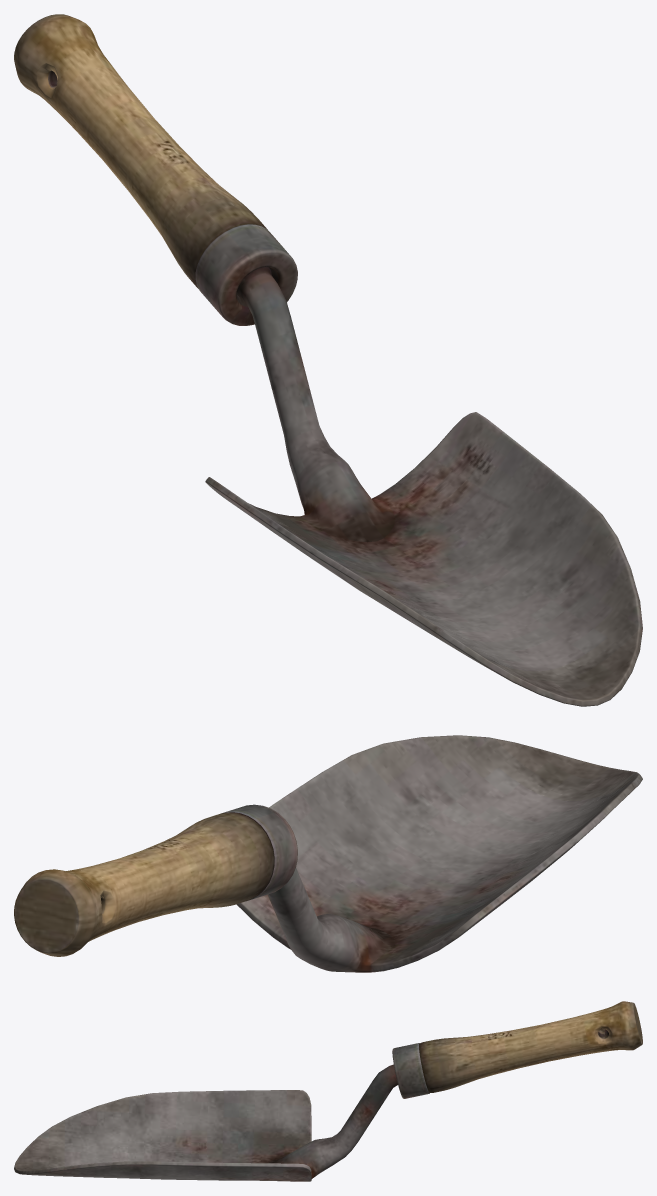
3 renders of one model, top to bottom at view 1: azimuth 30°, elevation 25°; view 2: azimuth 150°, elevation 25°; view 3: azimuth 270°, elevation 25°, orthographic. The views are drawn at different scales.
Parts seen in each view (by area): view 1: trowel_01; view 2: trowel_01; view 3: trowel_01.
Part boxes in pixels (x1=…): trowel_01: x1=14, y1=14, x2=642, y2=706; trowel_01: x1=14, y1=735, x2=642, y2=972; trowel_01: x1=14, y1=1001, x2=642, y2=1181.
Bounding box in the file's own units: 0.0991 × 0.1026 × 0.3469.
Materials: 1 (1 with a texture image).
